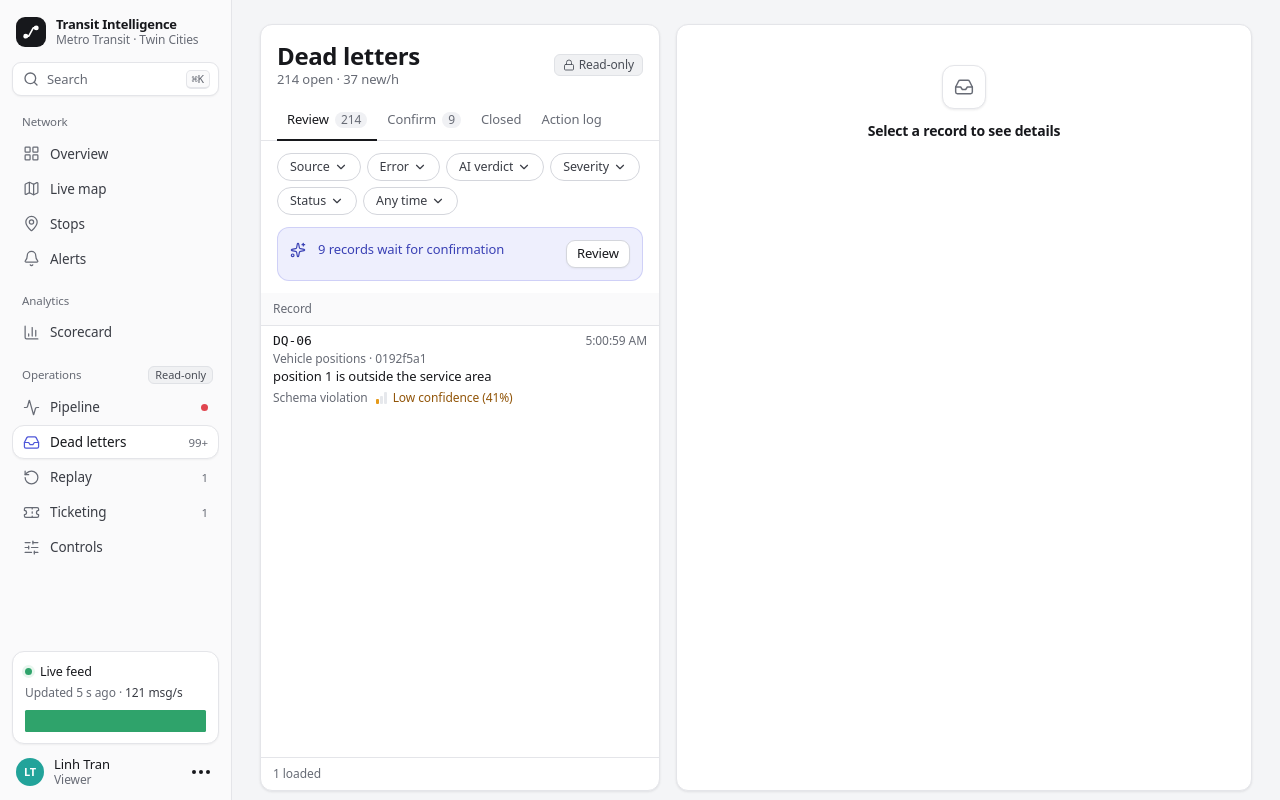
Test: Dead letters › shows the summary, the tab counts and the strip that leads to Confirm
expect the tab "Confirm 9" is shown: met, box [377,101,471,141]
Click the button "Review".
click(598, 254)  # box [566,240,630,268]
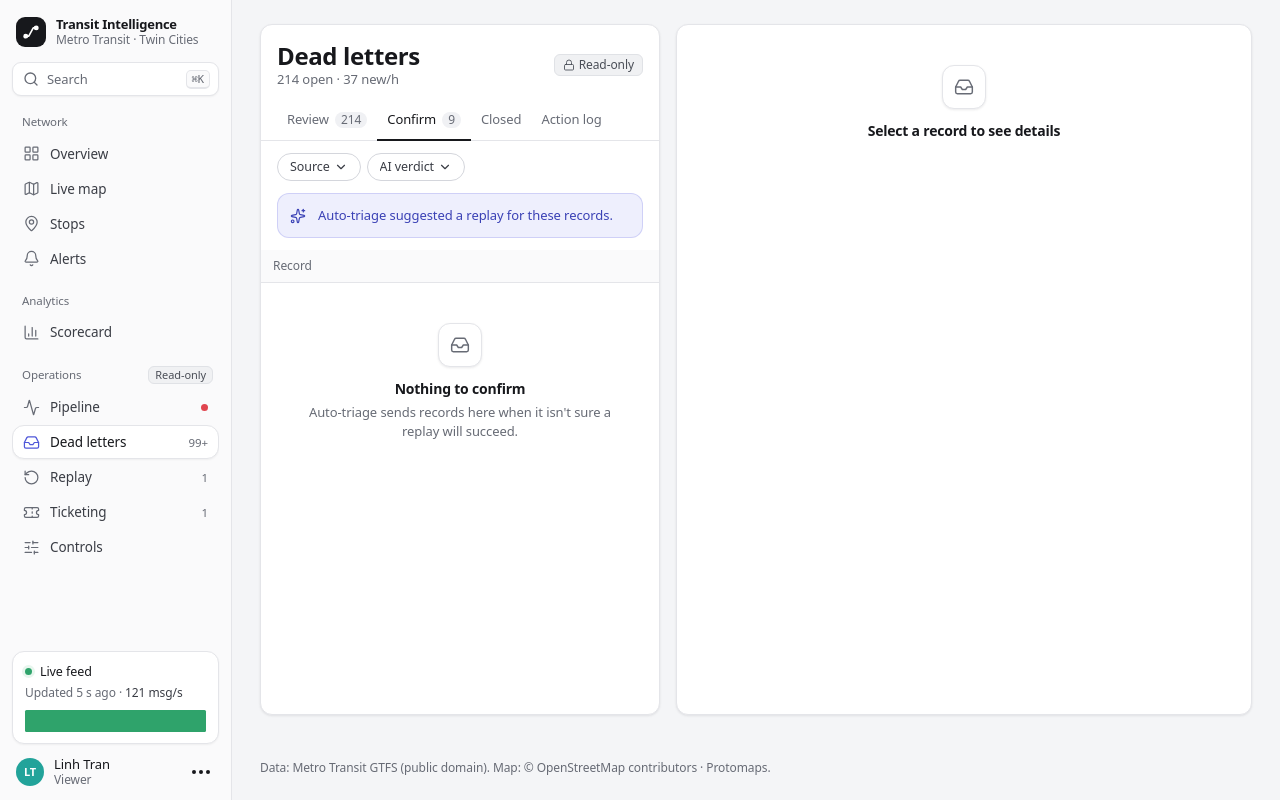
expect the text "Auto-triage suggested a replay for these records." is shown: met, box [318,206,630,225]
